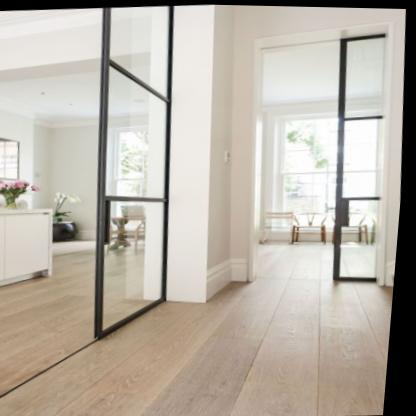Wooden floor: (0, 242, 398, 416)
